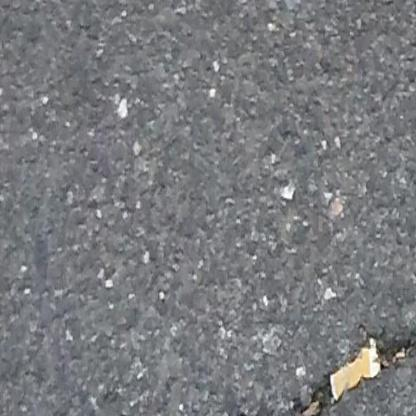Cracks: (166, 323, 416, 416)
